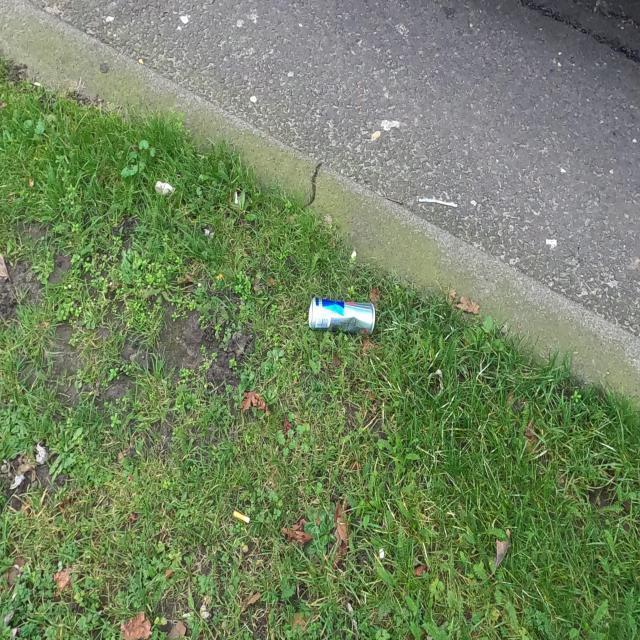Can-Metal: (308, 296, 377, 336)
